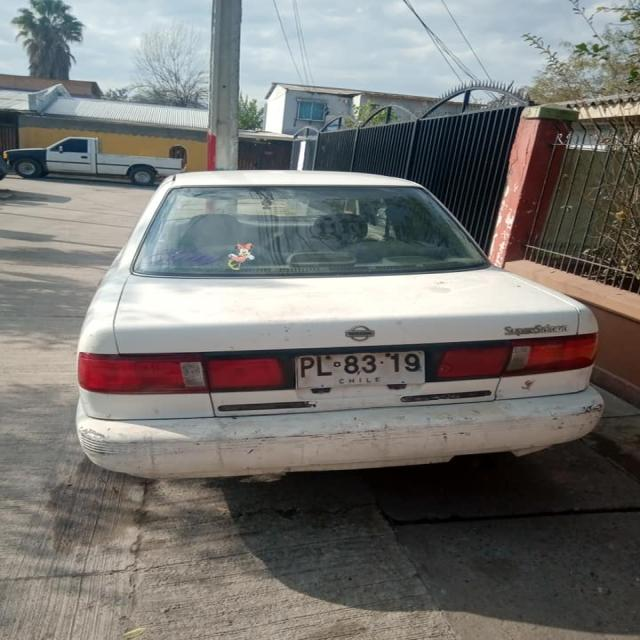patente: (293, 349, 426, 390)
